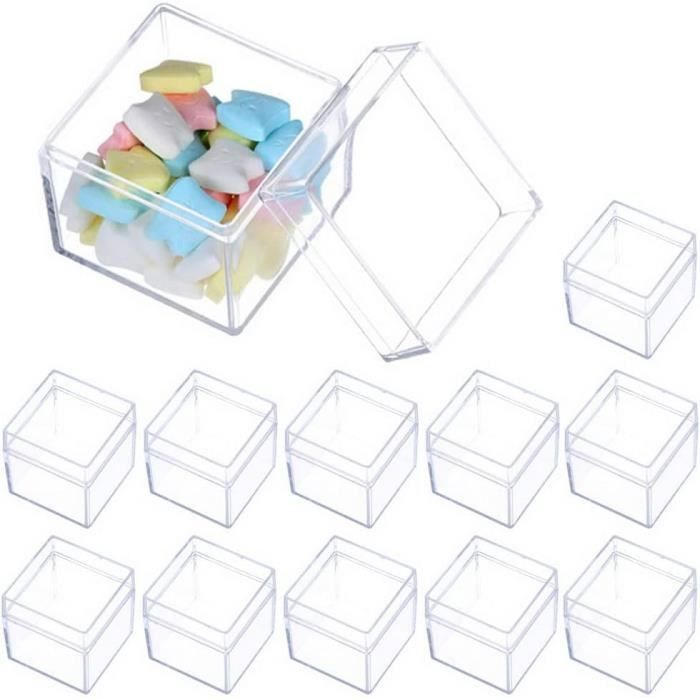Chaise: (348, 330, 501, 409)
